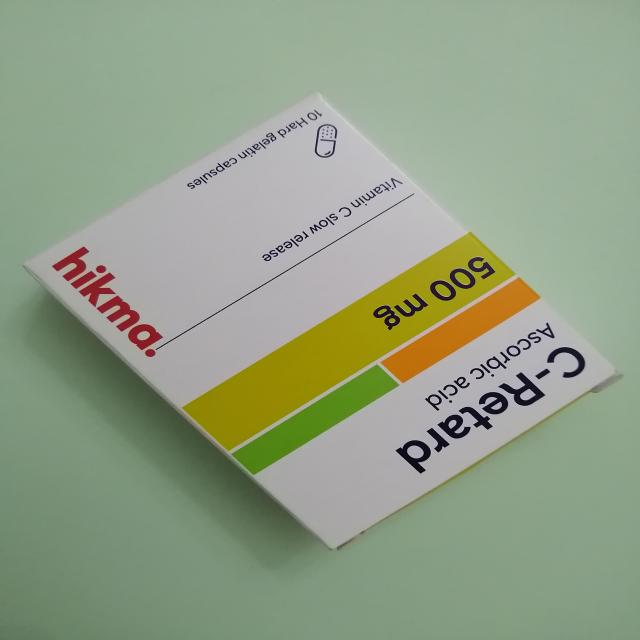C-Retard: (26, 88, 629, 568)
